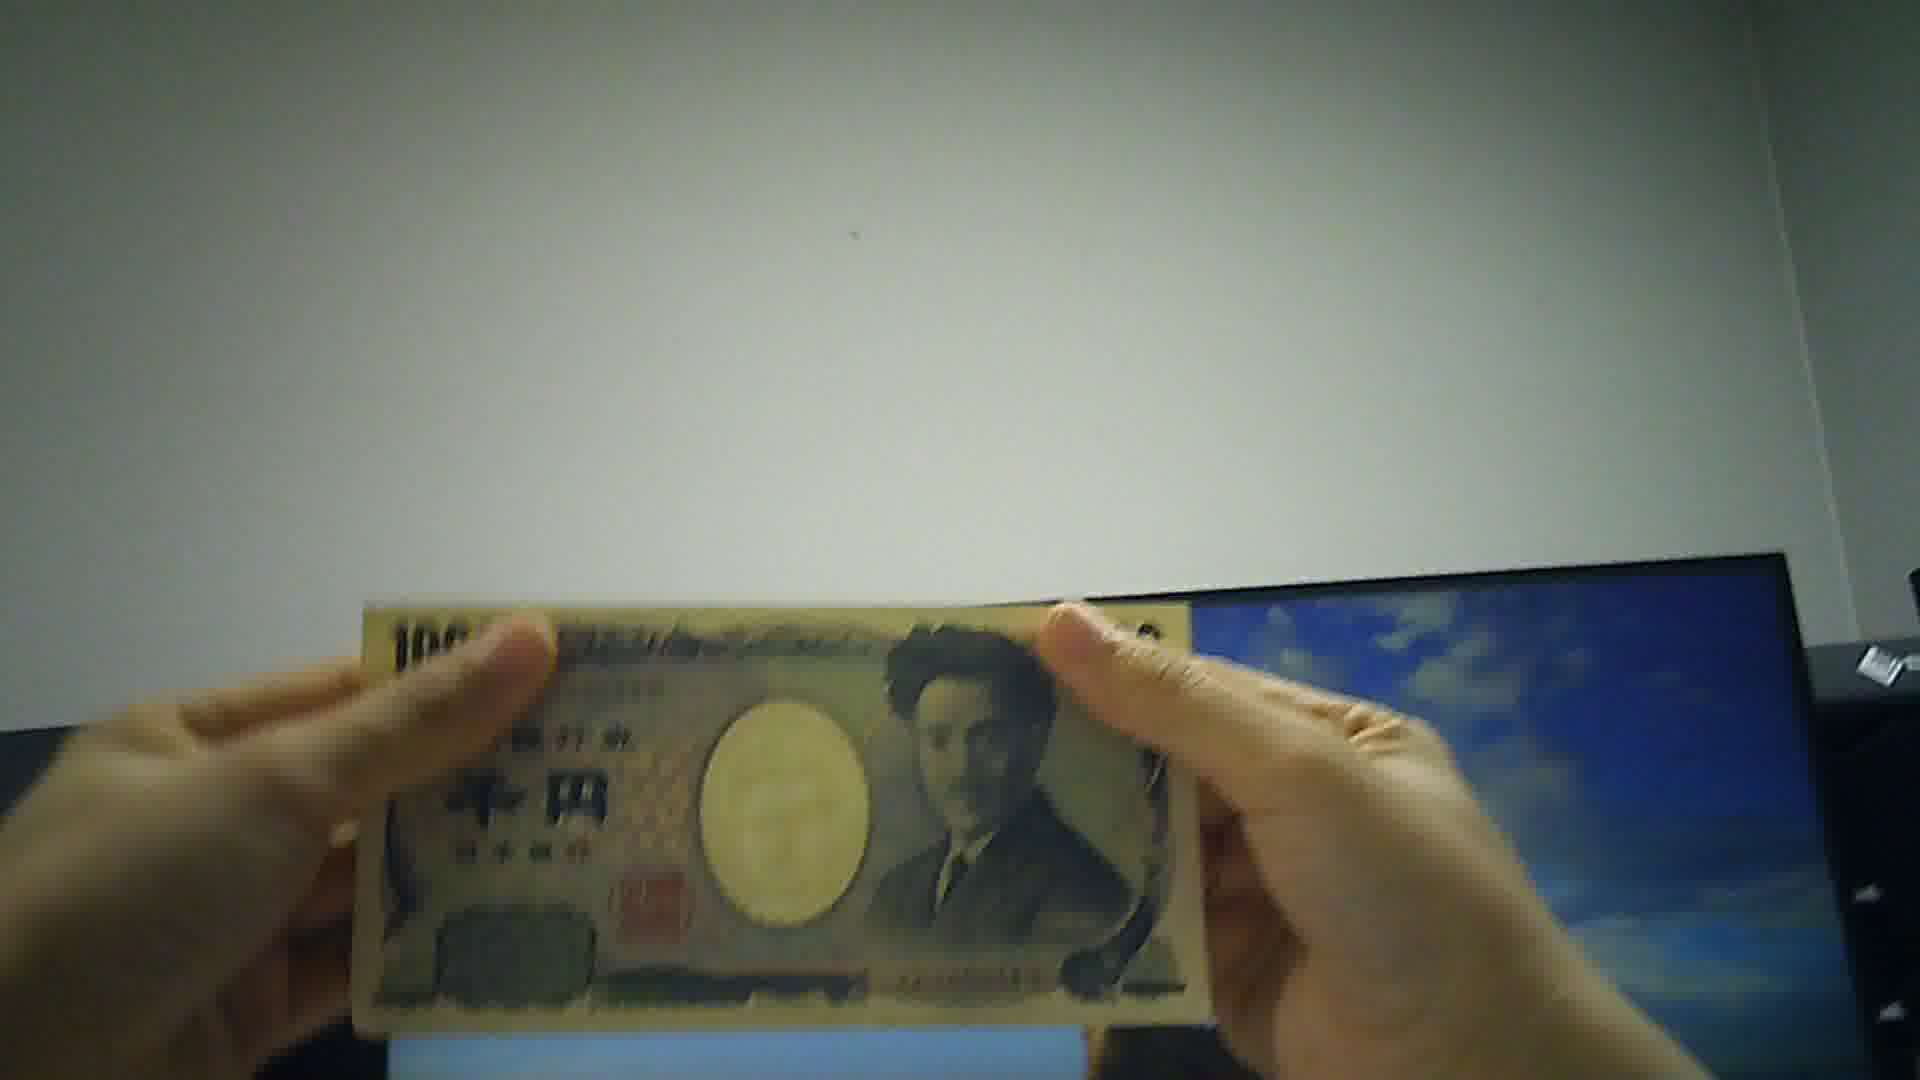1,000 Yen: (345, 578, 1221, 1040)
